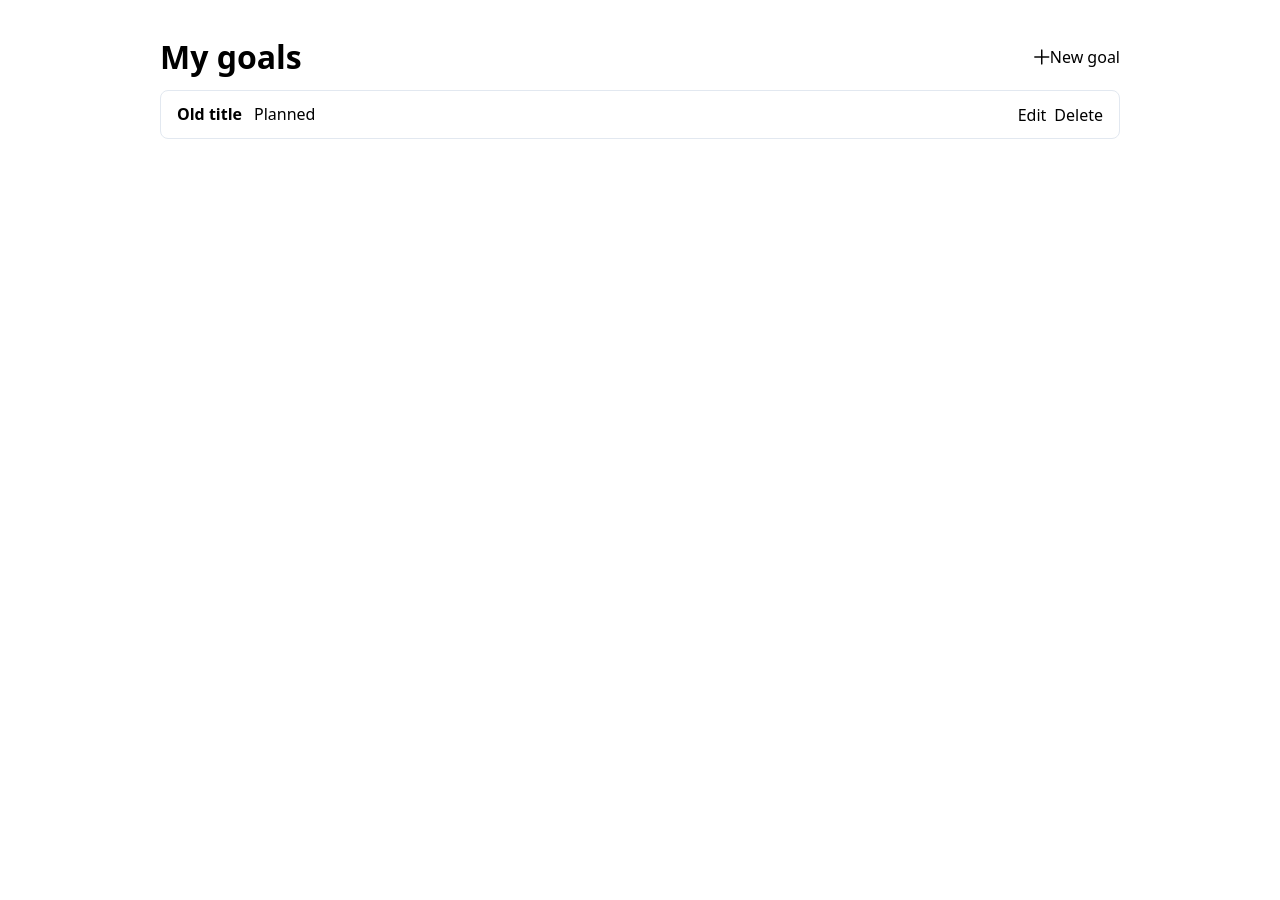
Test: GoalsView › edits an existing goal in place
This screenshot has width=1280, height=900.
Click the button with test id "edit-1" at (1032, 115), box [1018,104,1046,126]
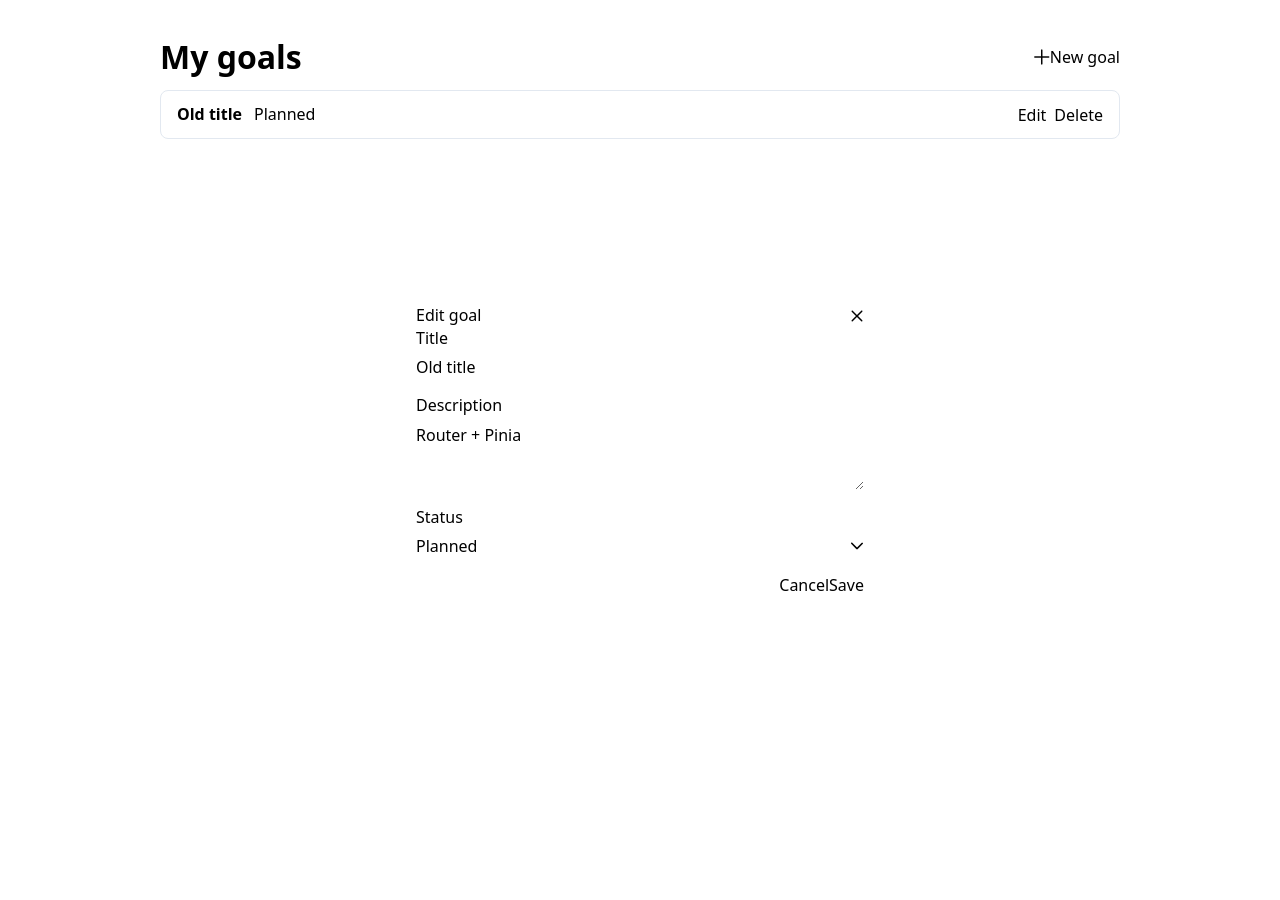
Replace the text in the field with test id "goal-title" showing "Title" with "New title" at (640, 367), box [416,356,864,378]
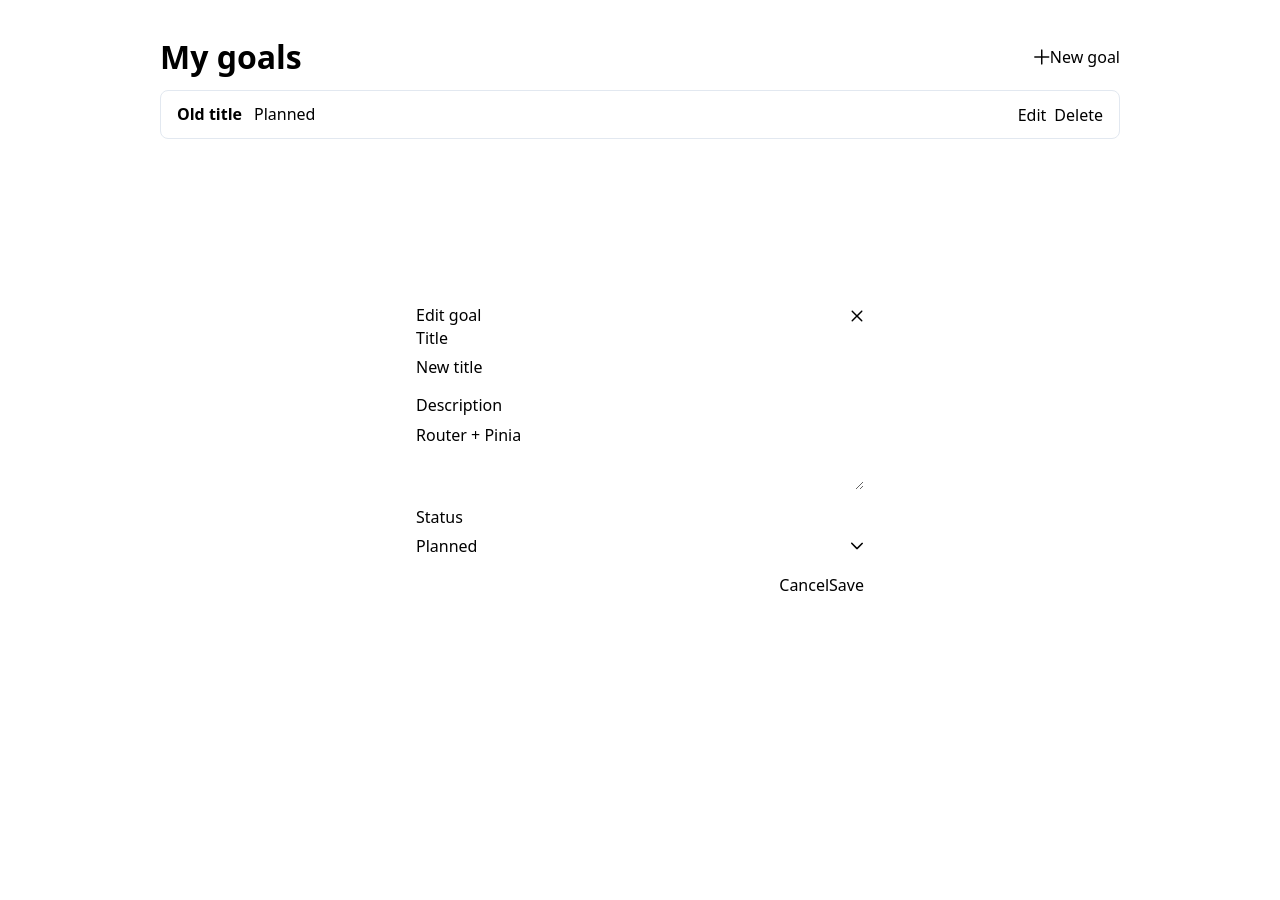
Click the button with test id "goal-save" at (847, 585), box [829,574,864,596]
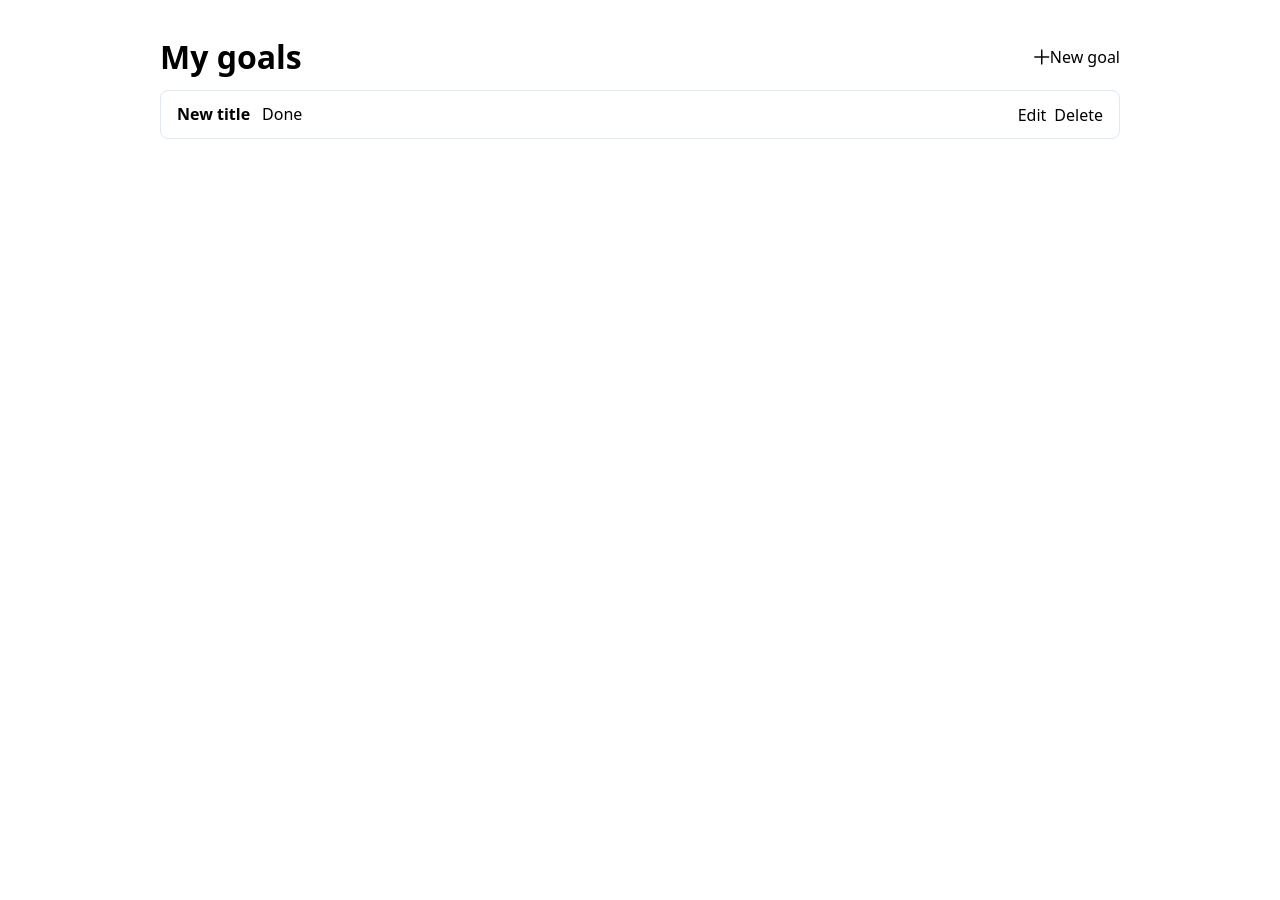
expect the text "New title" is shown: met, box [177,103,250,126]
expect the text "Old title" is gone: met
